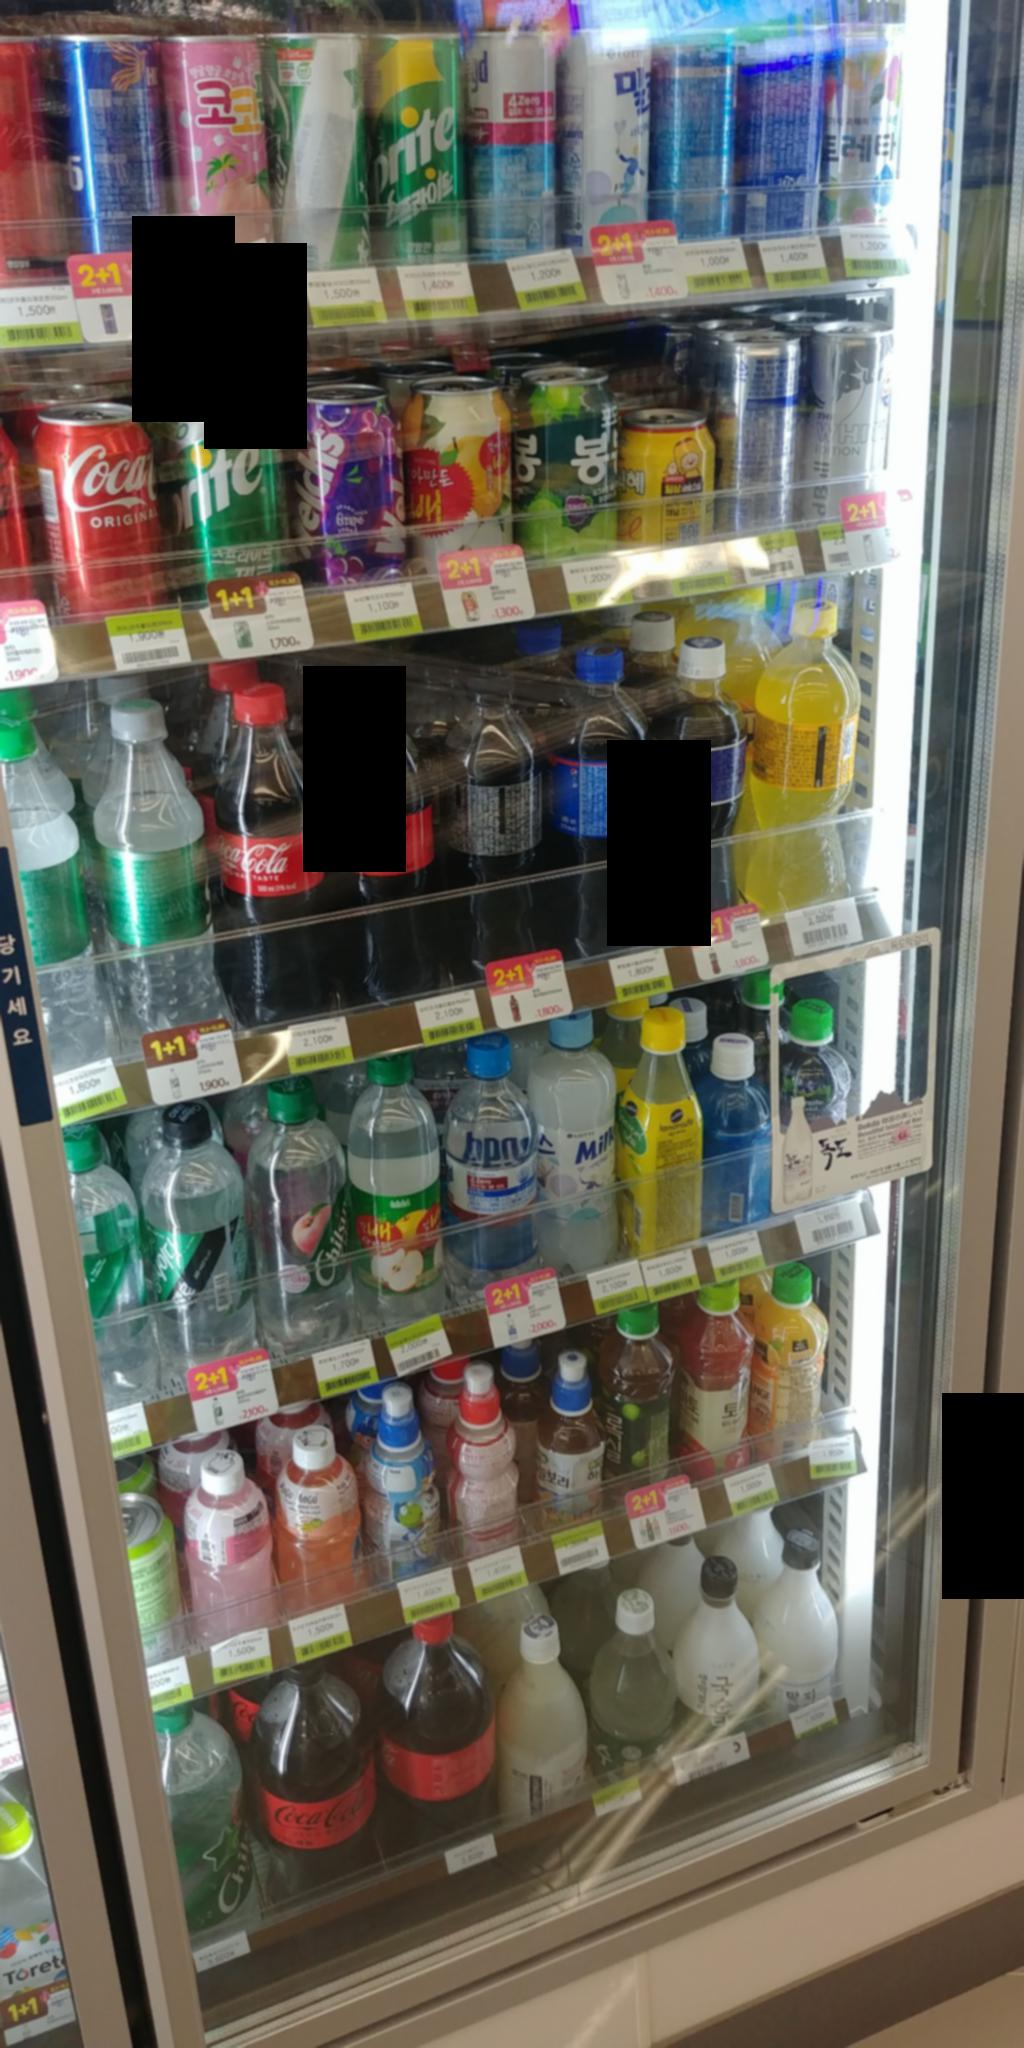cocacola: (33, 387, 179, 637)
narangdcider: (472, 22, 571, 259)
sprite_zero: (85, 684, 223, 1038)
welchs_grape: (274, 371, 414, 596)
